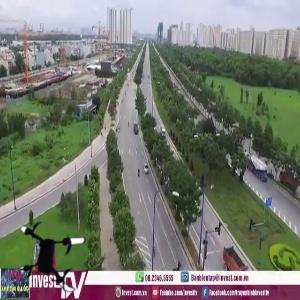drone: (13, 214, 98, 299)
